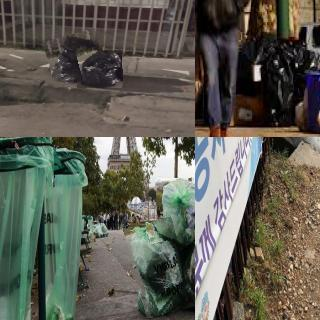Garbage: (129, 219, 190, 316), (45, 32, 105, 86), (155, 177, 195, 243), (76, 51, 123, 89), (180, 228, 195, 315)
